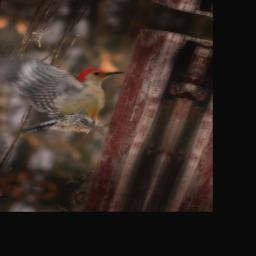Woodpecker: (0, 44, 127, 150)
